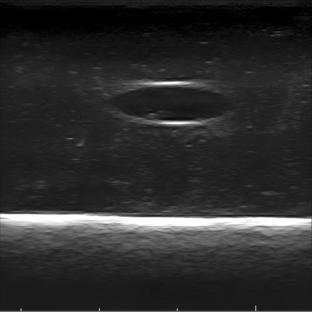vessel: (111, 80, 235, 126)
